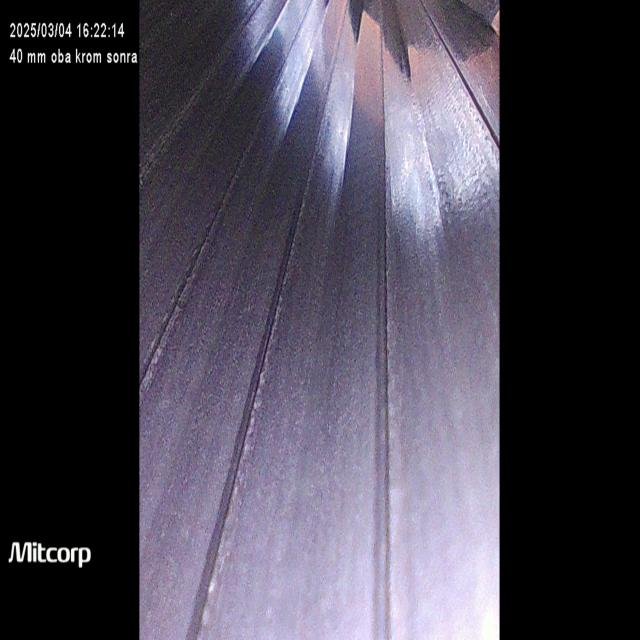hata_8.1: (167, 176, 328, 636)
